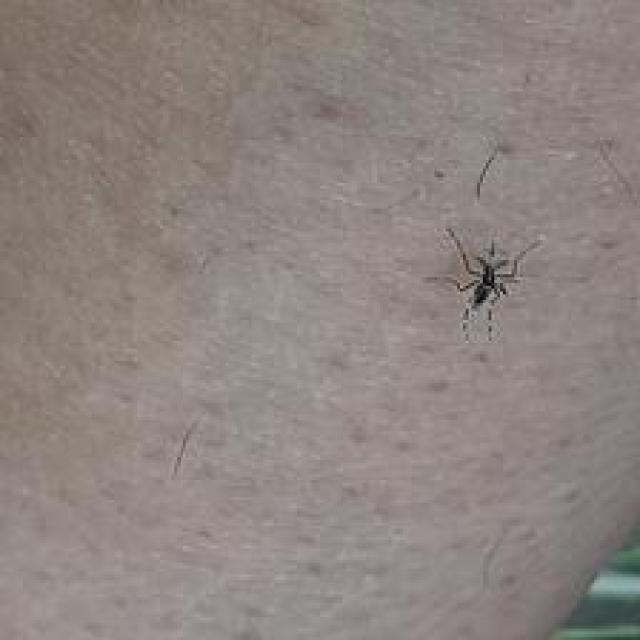Aedes albopictus: (424, 225, 544, 342)
